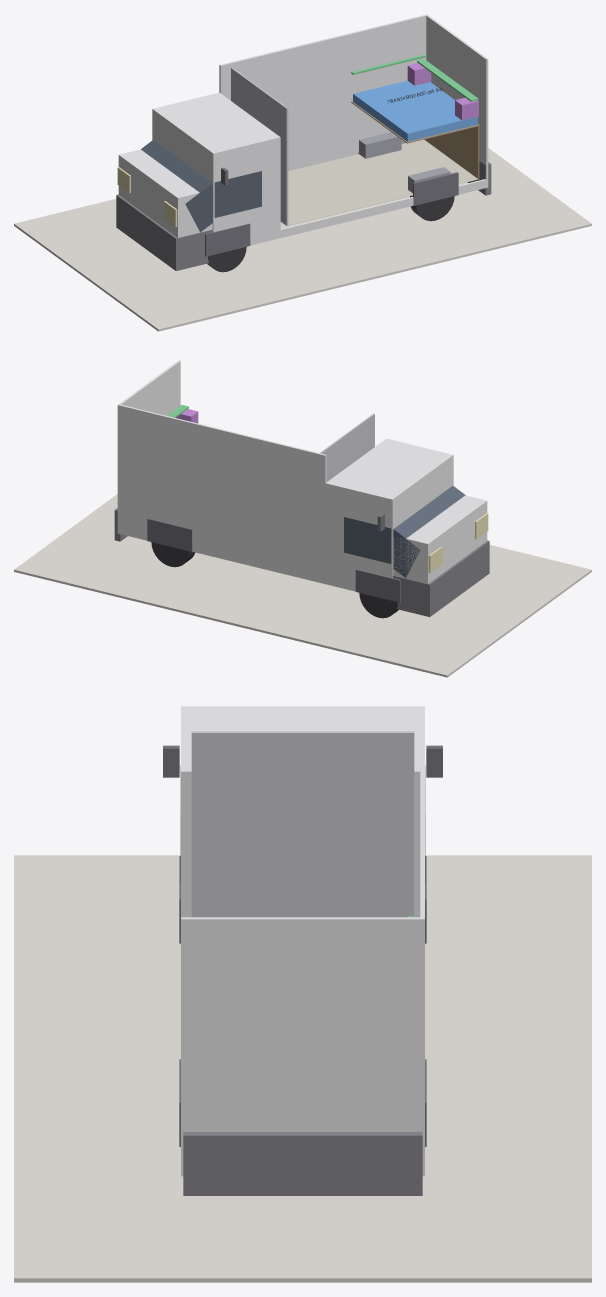
The model's file is van_master_open.glb.
3 renders of one model, top to bottom at view 1: azimuth 30°, elevation 25°; view 2: azimuth 150°, elevation 25°; view 3: azimuth 270°, elevation 25°, orthographic. The views are drawn at different scales.
Parts seen in each view (by area): view 1: Ground, Body_RoadWall, Cab, Interior_Floor, Mattress, Body_RearWall, Bonnet, Front_Bumper, Bulkhead_In, Windscreen, Cab_Win_L, Body_Skirt_K (+9 smaller); view 2: Ground, Body_RoadWall, Cab, Bonnet, Front_Bumper, Windscreen, Body_RearWall, Bulkhead_In, Cab_Win_R, Arch_-1225_R, Arch_2810_R, Wheel_RR (+1 smaller); view 3: Ground, Body_RearWall, Bulkhead_In, Rear_Bumper, Cab, Body_RoadWall.
Part boxes in pixels (<box>): Ground: <box>14,148,591,331</box>; Body_RoadWall: <box>219,14,427,170</box>; Cab: <box>152,92,280,245</box>; Interior_Floor: <box>288,139,478,225</box>; Mattress: <box>353,80,477,141</box>; Body_RearWall: <box>426,14,488,187</box>; Bonnet: <box>118,149,212,237</box>; Front_Bumper: <box>116,194,212,270</box>; Bulkhead_In: <box>231,67,288,225</box>; Windscreen: <box>141,140,212,232</box>; Cab_Win_L: <box>214,171,261,217</box>; Body_Skirt_K: <box>280,179,487,237</box>; Ground: <box>14,494,591,677</box>; Body_RoadWall: <box>117,404,326,583</box>; Cab: <box>325,438,453,591</box>; Bonnet: <box>393,495,487,583</box>; Front_Bumper: <box>393,540,489,616</box>; Windscreen: <box>393,486,465,577</box>; Body_RearWall: <box>119,360,180,415</box>; Bulkhead_In: <box>320,413,374,481</box>; Cab_Win_R: <box>344,517,391,563</box>; Arch_-1225_R: <box>355,569,400,602</box>; Arch_2810_R: <box>147,519,192,551</box>; Wheel_RR: <box>151,542,195,567</box>; Ground: <box>14,855,591,1282</box>; Body_RearWall: <box>181,917,424,1176</box>; Bulkhead_In: <box>191,731,414,917</box>; Rear_Bumper: <box>183,1132,422,1195</box>; Cab: <box>181,706,424,917</box>; Body_RoadWall: <box>420,716,424,1176</box>.
Size of the model in its own units: 8.4 by 2.8 by 4.85.
